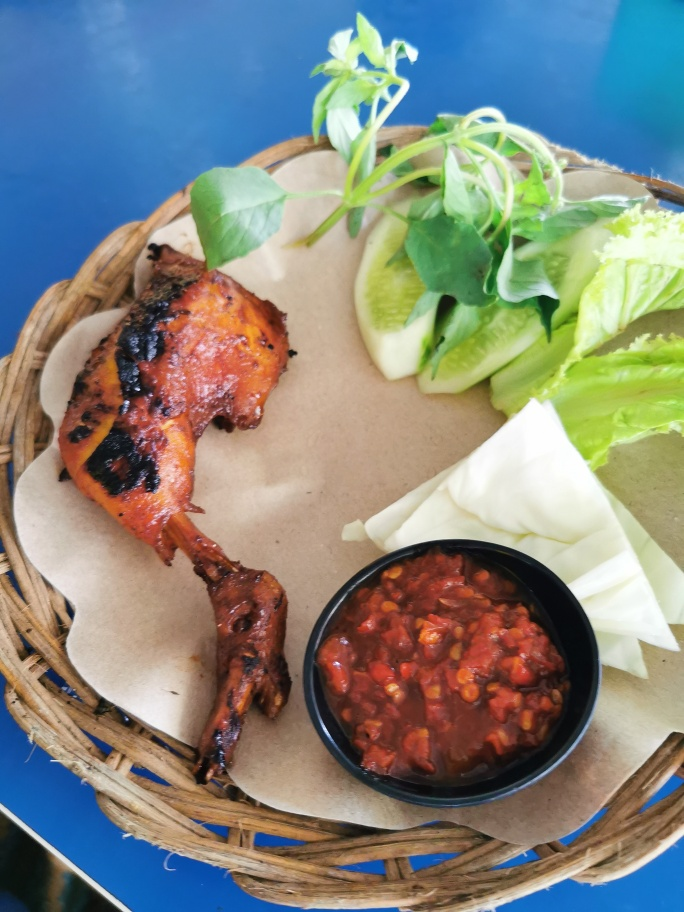ayam bakar: (43, 235, 318, 777)
